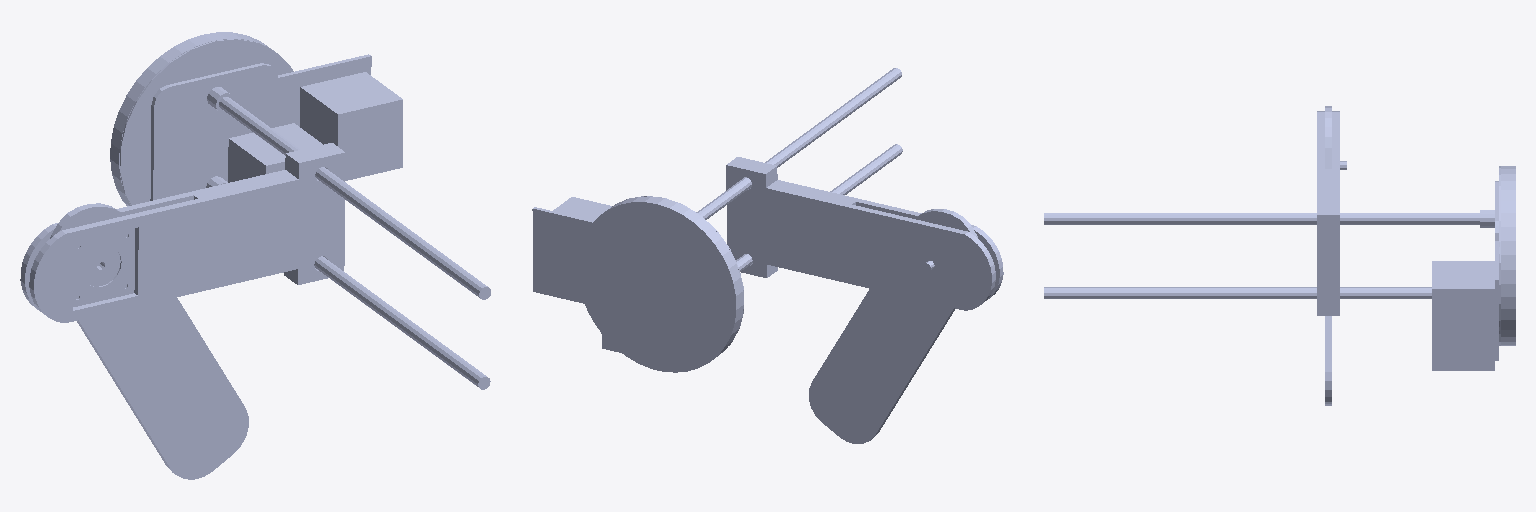
robot.urdf — scara:
<?xml version="1.0" encoding="utf-8"?>
<!-- This URDF was automatically created by SolidWorks to URDF Exporter! Originally created by [author] ([email redacted]) 
     Commit Version: 1.5.1-0-g916b5db  Build Version: 1.5.7152.31018
     For more information, please see http://wiki.ros.org/sw_urdf_exporter -->
<robot
  name="scara">
  <link
    name="base_link">
    <inertial>
      <origin
        xyz="0.033171 -0.10924 0.046438"
        rpy="0 0 0" />
      <mass
        value="0.11246" />
      <inertia
        ixx="0.00010272"
        ixy="-1.8434E-37"
        ixz="2.7015E-36"
        iyy="0.00010272"
        iyz="-1.7505E-18"
        izz="0.00020357" />
    </inertial>
    <visual>
      <origin
        xyz="0 0 0"
        rpy="0 0 0" />
      <geometry>
        <mesh
          filename="package://scara.SLDASM/meshes/base_link.STL" />
      </geometry>
      <material
        name="">
        <color
          rgba="0.79216 0.81961 0.93333 1" />
      </material>
    </visual>
    <collision>
      <origin
        xyz="0 0 0"
        rpy="0 0 0" />
      <geometry>
        <mesh
          filename="package://scara.SLDASM/meshes/base_link.STL" />
      </geometry>
    </collision>
  </link>
  <link
    name="link1">
    <inertial>
      <origin
        xyz="-0.037231 0.046385 -0.012801"
        rpy="0 0 0" />
      <mass
        value="0.25516" />
      <inertia
        ixx="0.00089423"
        ixy="-0.00012517"
        ixz="2.666E-05"
        iyy="0.00041171"
        iyz="-3.7186E-05"
        izz="0.0010066" />
    </inertial>
    <visual>
      <origin
        xyz="0 0 0"
        rpy="0 0 0" />
      <geometry>
        <mesh
          filename="package://scara.SLDASM/meshes/link1.STL" />
      </geometry>
      <material
        name="">
        <color
          rgba="0.79216 0.81961 0.93333 1" />
      </material>
    </visual>
    <collision>
      <origin
        xyz="0 0 0"
        rpy="0 0 0" />
      <geometry>
        <mesh
          filename="package://scara.SLDASM/meshes/link1.STL" />
      </geometry>
    </collision>
  </link>
  <joint
    name="base_link1"
    type="revolute">
    <origin
      xyz="0.033171 -0.041438 -0.10924"
      rpy="0 -0.010251 -3.1416" />
    <parent
      link="base_link" />
    <child
      link="link1" />
    <axis
      xyz="0 1 0" />
    <limit
      lower="0"
      upper="6.28"
      effort="0"
      velocity="0" />
  </joint>
  <link
    name="link2">
    <inertial>
      <origin
        xyz="-0.018477 0.0072712 5.5511E-17"
        rpy="0 0 0" />
      <mass
        value="0.17331" />
      <inertia
        ixx="4.9168E-05"
        ixy="7.351E-07"
        ixz="1.6424E-20"
        iyy="0.00015794"
        iyz="2.1258E-20"
        izz="0.00011975" />
    </inertial>
    <visual>
      <origin
        xyz="0 0 0"
        rpy="0 0 0" />
      <geometry>
        <mesh
          filename="package://scara.SLDASM/meshes/link2.STL" />
      </geometry>
      <material
        name="">
        <color
          rgba="0.79216 0.81961 0.93333 1" />
      </material>
    </visual>
    <collision>
      <origin
        xyz="0 0 0"
        rpy="0 0 0" />
      <geometry>
        <mesh
          filename="package://scara.SLDASM/meshes/link2.STL" />
      </geometry>
    </collision>
  </link>
  <joint
    name="link1_link2"
    type="prismatic">
    <origin
      xyz="0.065 0.1171 0"
      rpy="0 0 0" />
    <parent
      link="link1" />
    <child
      link="link2" />
    <axis
      xyz="0 1 0" />
    <limit
      lower="-0.1389"
      upper="0.051104"
      effort="0"
      velocity="0" />
  </joint>
  <link
    name="link3">
    <inertial>
      <origin
        xyz="0.061654 0.007409 2.7756E-17"
        rpy="0 0 0" />
      <mass
        value="0.051353" />
      <inertia
        ixx="1.2371E-05"
        ixy="-1.2987E-07"
        ixz="-3.7099E-21"
        iyy="0.00016823"
        iyz="3.6392E-21"
        izz="0.0001561" />
    </inertial>
    <visual>
      <origin
        xyz="0 0 0"
        rpy="0 0 0" />
      <geometry>
        <mesh
          filename="package://scara.SLDASM/meshes/link3.STL" />
      </geometry>
      <material
        name="">
        <color
          rgba="0.79216 0.81961 0.93333 1" />
      </material>
    </visual>
    <collision>
      <origin
        xyz="0 0 0"
        rpy="0 0 0" />
      <geometry>
        <mesh
          filename="package://scara.SLDASM/meshes/link3.STL" />
      </geometry>
    </collision>
  </link>
  <joint
    name="link2_link3"
    type="revolute">
    <origin
      xyz="0.074 0 0"
      rpy="3.1416 1.0472 3.1416" />
    <parent
      link="link2" />
    <child
      link="link3" />
    <axis
      xyz="0 1 0" />
    <limit
      lower="-1.57"
      upper="1.57"
      effort="0"
      velocity="0" />
  </joint>
</robot>

--- Facts derived from the render (not from the file) ---
The picture shows the robot from 3 angles, left to right: view 1: azimuth 30°, elevation 25°; view 2: azimuth 150°, elevation 25°; view 3: azimuth 270°, elevation 25°; orthographic projection.
Model scara with 4 links and 3 joints (2 revolute, 1 prismatic), rooted at base_link, posed all joints at 0.
Links seen in each view (by area): view 1: link1, link2, link3, base_link; view 2: link2, base_link, link3, link1; view 3: link1, link2, base_link, link3.
Boxes of the visible links, left/top/right/bottom form: link1: left=120, top=39, right=490, bottom=389; link2: left=20, top=143, right=345, bottom=322; link3: left=50, top=203, right=248, bottom=479; base_link: left=110, top=32, right=279, bottom=205; link2: left=726, top=157, right=1003, bottom=310; base_link: left=578, top=196, right=743, bottom=372; link3: left=809, top=209, right=977, bottom=443; link1: left=532, top=68, right=902, bottom=352; link1: left=1044, top=166, right=1500, bottom=370; link2: left=1317, top=111, right=1339, bottom=315; base_link: left=1501, top=166, right=1515, bottom=345; link3: left=1325, top=106, right=1346, bottom=405.
Bounding box of the posed robot: 0.2855 × 0.314 × 0.2041 m (x, y, z).
Meshes: 4 distinct files referenced, 4 mesh visuals loaded (4 binary STL).